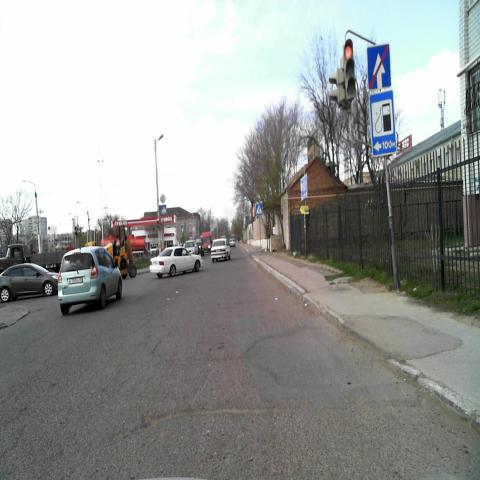7_3: (370, 92, 396, 154)
